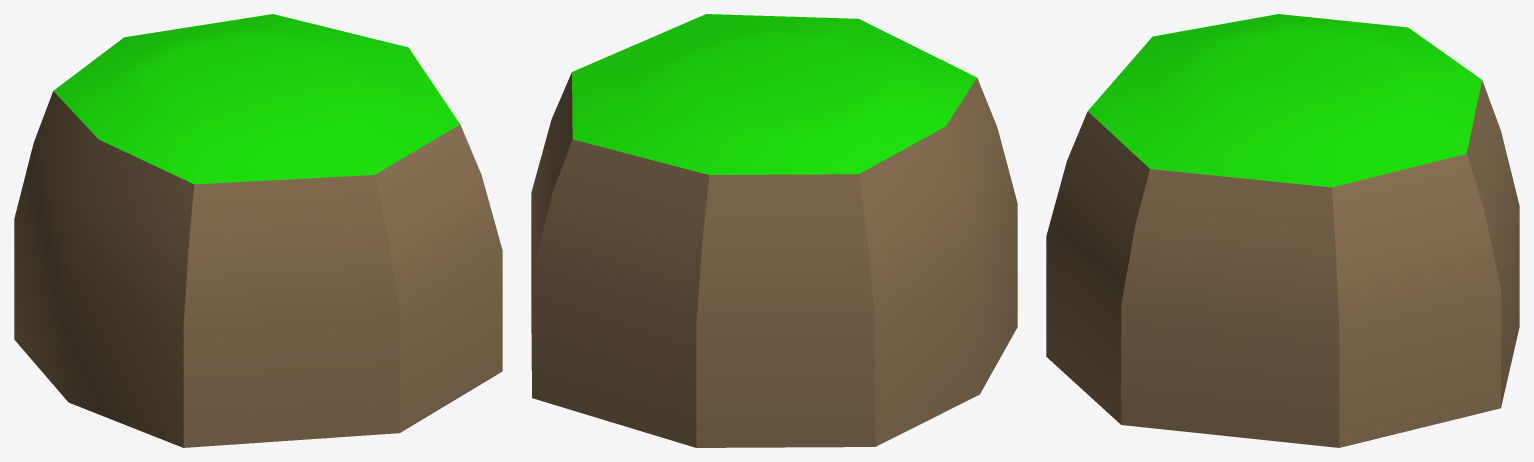
Rendered from island_2.fbx.
The picture shows the model from 3 angles, left to right: view 1: azimuth 30°, elevation 25°; view 2: azimuth 150°, elevation 25°; view 3: azimuth 270°, elevation 25°; orthographic projection. The views are drawn at different scales.
Parts seen in each view (by area): view 1: Small Island; view 2: Small Island; view 3: Small Island.
Part boxes in pixels (x1=…): Small Island: x1=14, y1=14, x2=502, y2=447; Small Island: x1=531, y1=14, x2=1017, y2=447; Small Island: x1=1046, y1=14, x2=1519, y2=447.
Size of the model in its own units: 703 by 451 by 716.
